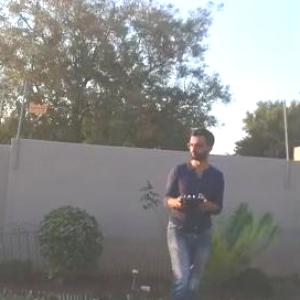follow: (157, 123, 227, 299)
